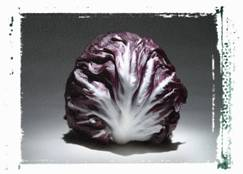cabbage: (61, 29, 189, 145)
